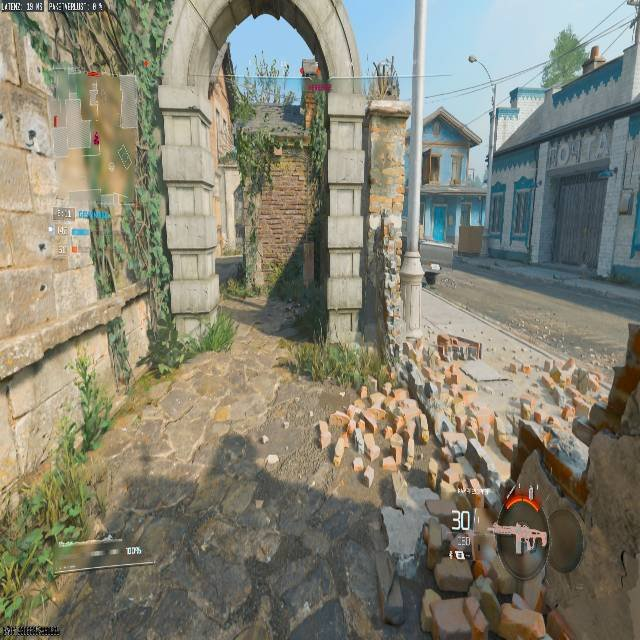head: (493, 501, 549, 577)
player: (416, 502, 587, 640)
